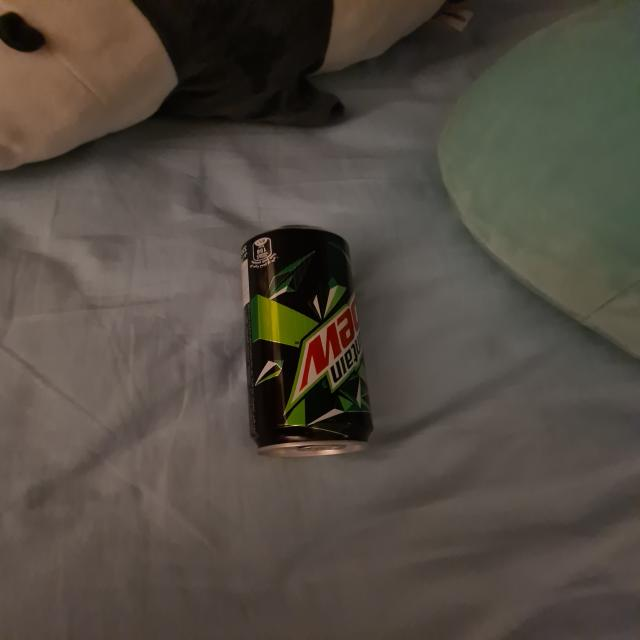non-organic waste: (234, 218, 379, 464)
